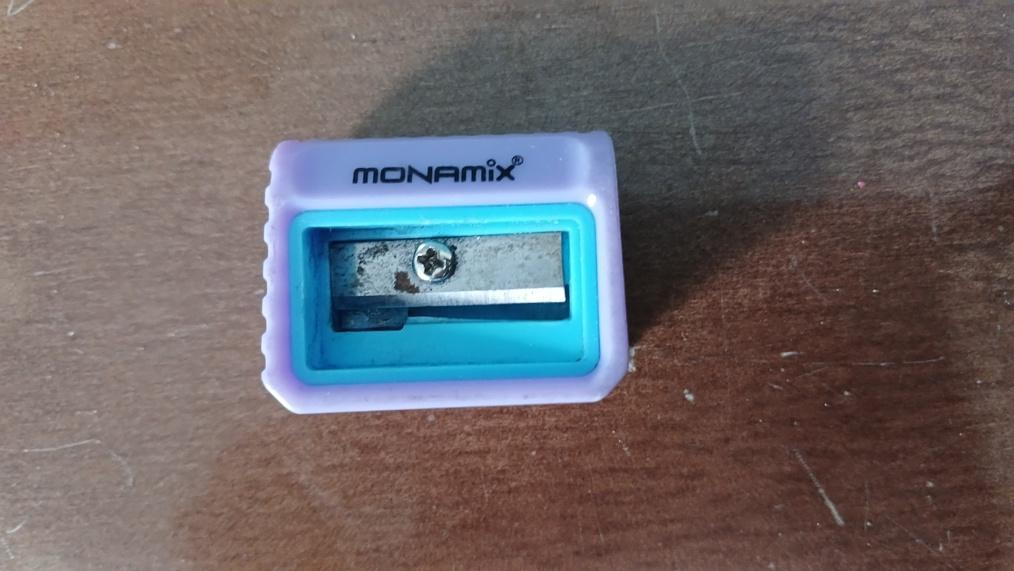Sharpener: (263, 135, 632, 414)
